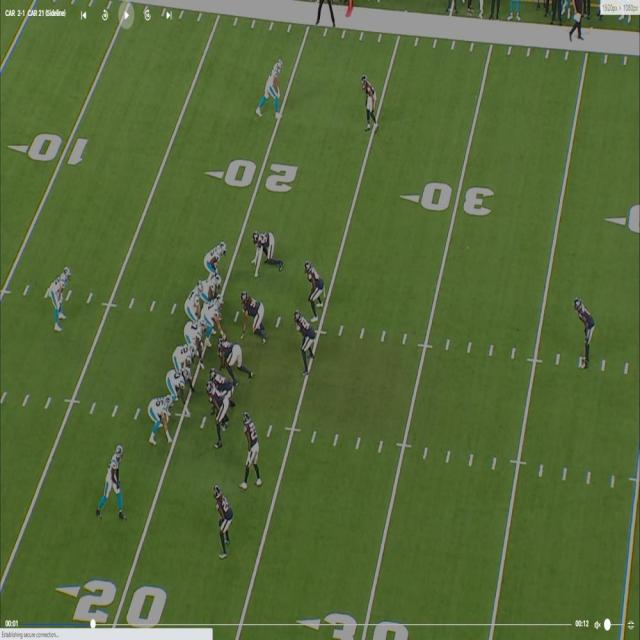center: (206, 301, 223, 339)
db: (245, 415, 263, 489), (576, 297, 592, 368), (219, 491, 233, 559), (365, 77, 378, 130)
lb: (203, 381, 228, 447), (296, 311, 318, 364), (304, 263, 326, 312)
qb: (184, 278, 204, 318)
skill: (146, 393, 176, 448), (164, 366, 192, 417), (258, 58, 283, 111), (105, 446, 124, 508), (53, 272, 71, 332)
